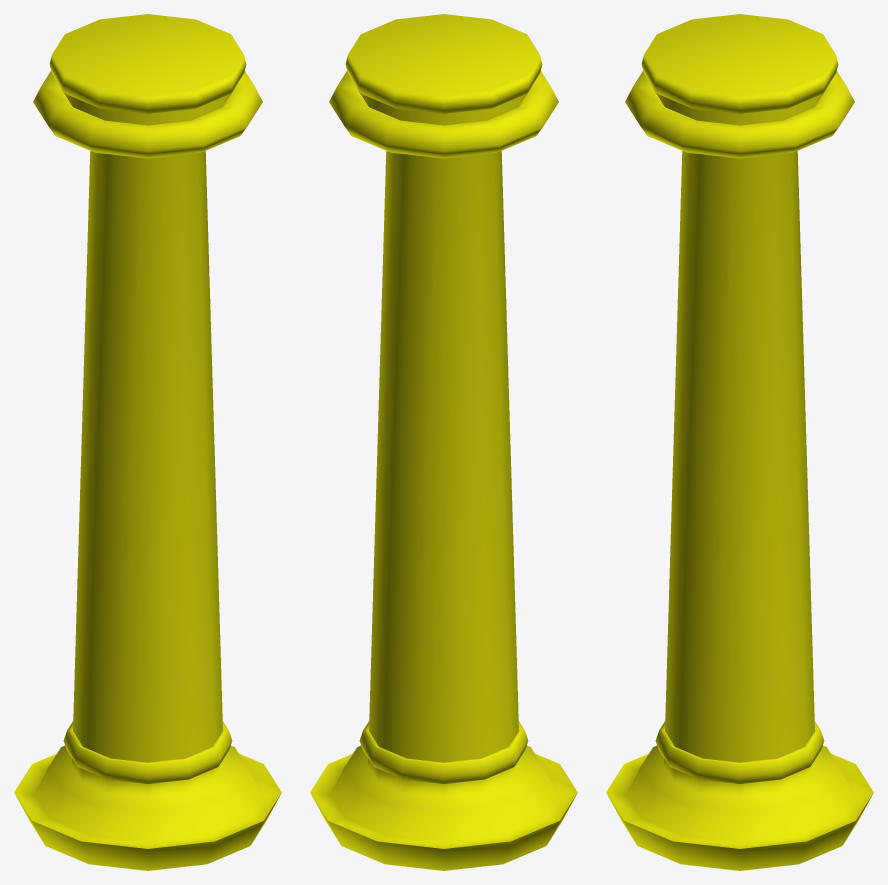
The model's file is mdl_ciudadela_casa_pilar1.fbx.
The picture shows the model from 3 angles, left to right: view 1: azimuth 30°, elevation 25°; view 2: azimuth 150°, elevation 25°; view 3: azimuth 270°, elevation 25°; orthographic projection.
Visible parts, largest first — view 1: mdl_ciudadela_casa_pilar1; view 2: mdl_ciudadela_casa_pilar1; view 3: mdl_ciudadela_casa_pilar1.
Part boxes in pixels (<box>): mdl_ciudadela_casa_pilar1: <box>14,14,281,870</box>; mdl_ciudadela_casa_pilar1: <box>310,14,577,870</box>; mdl_ciudadela_casa_pilar1: <box>606,14,873,870</box>.
Bounding box in the file's own units: 1.54 × 4.87 × 1.54.
